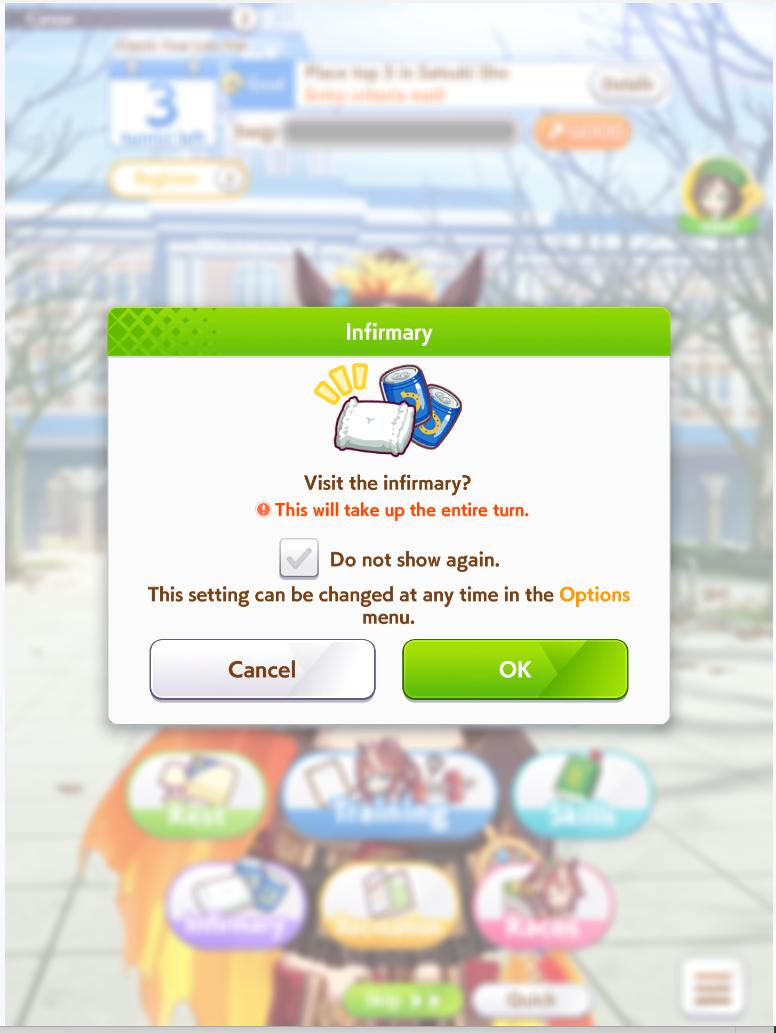Ok: (397, 637, 637, 705)
cancel: (142, 640, 382, 707)
